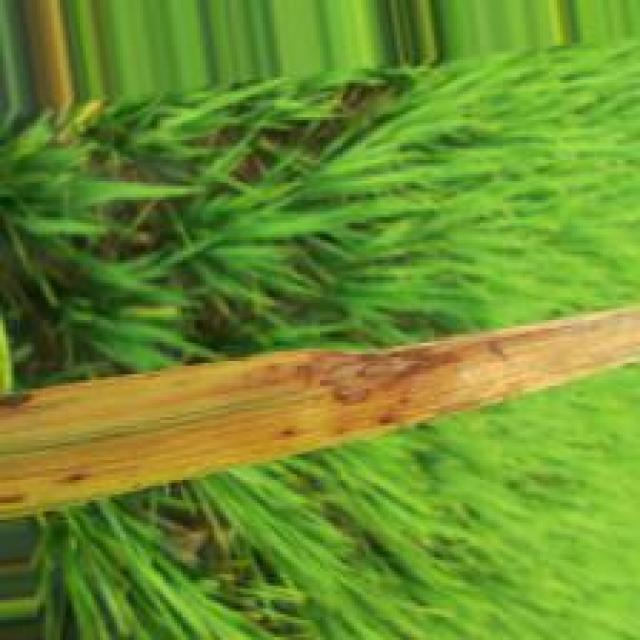Bacterial_Leaf_Blight: (1, 306, 640, 513)
